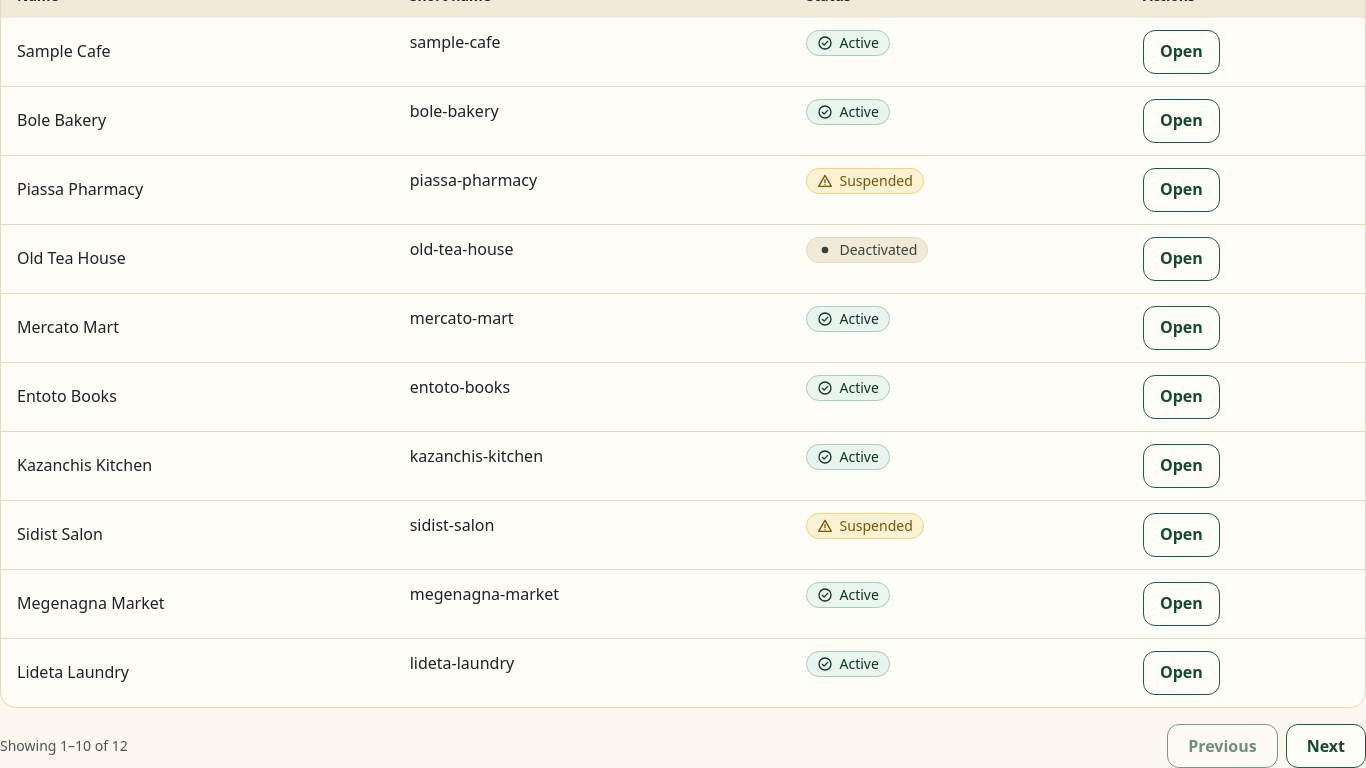
merchants › lists merchants 10 per page with their status, and pages
(page scrolled)
Expected: the text "Showing 1–10 of 12" is shown, [0,736,128,756]
Click the button "Next" at (1326, 746), box [1286,724,1365,767]
(page scrolled)
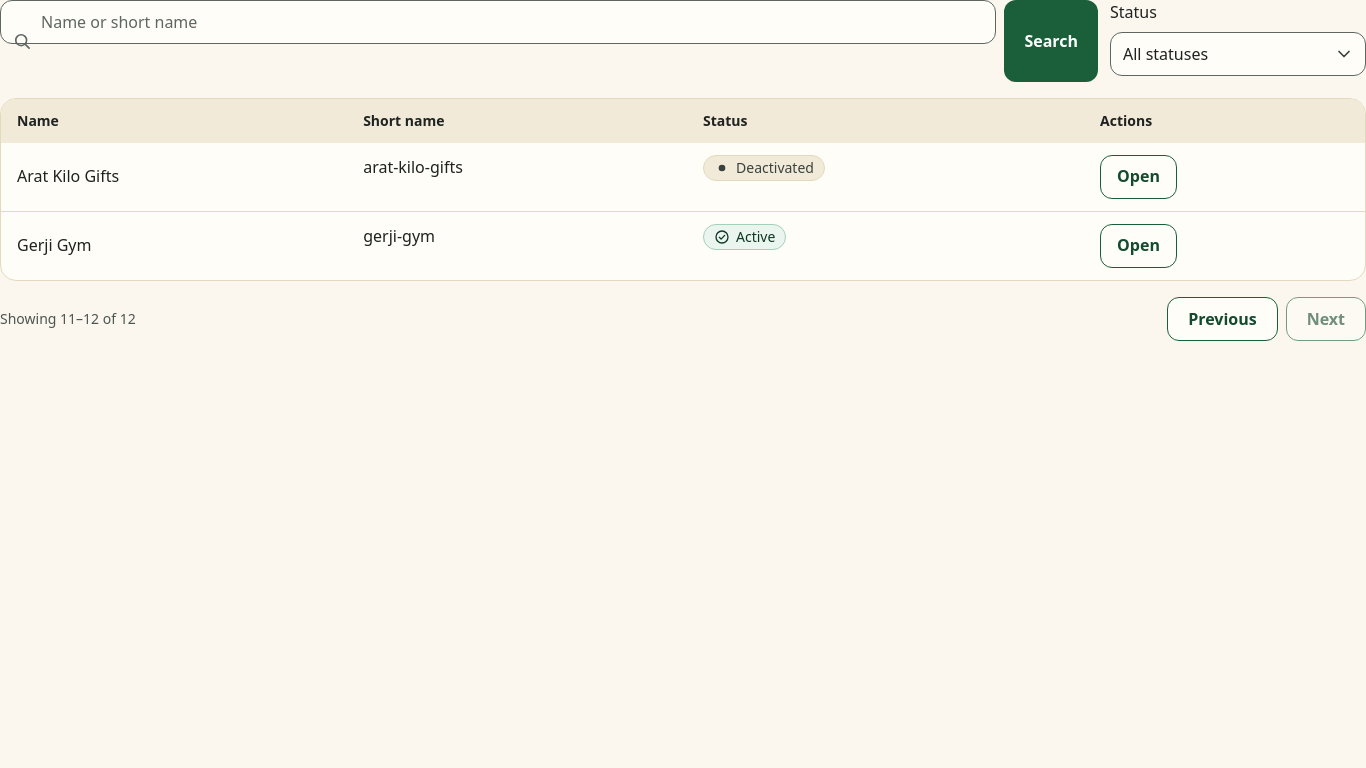
Result: the number of rows is 3 at [1,99,1365,143]; [1,143,1365,211]; [1,211,1365,280]
